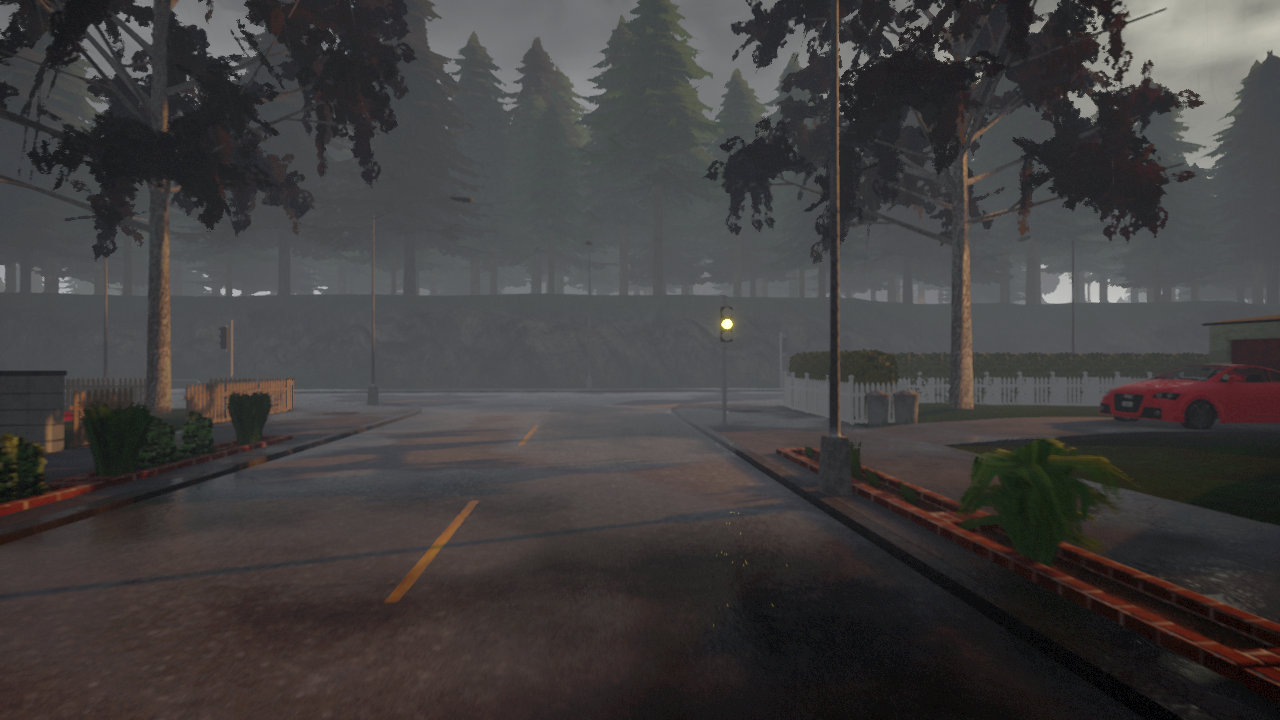yellow: (721, 304, 735, 342)
